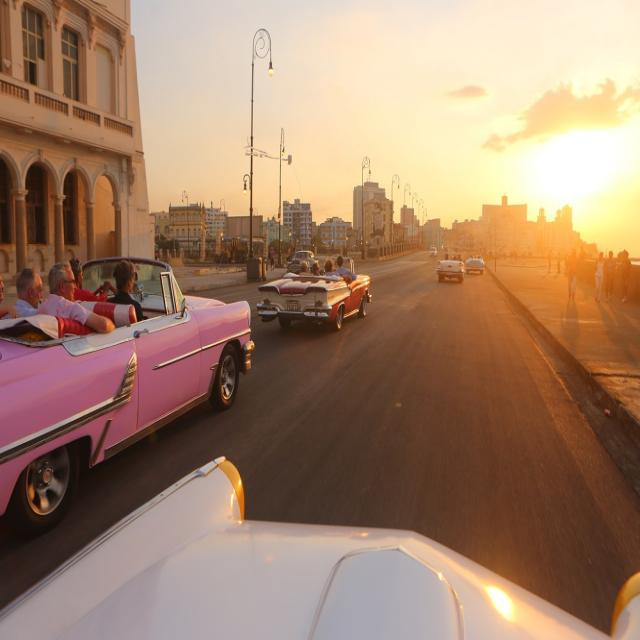body: (36, 260, 116, 336), (428, 241, 562, 277), (104, 257, 145, 324), (0, 266, 44, 319), (68, 255, 112, 302), (0, 256, 18, 328), (565, 246, 579, 302), (602, 248, 616, 303), (618, 250, 632, 304), (593, 250, 605, 304), (334, 254, 357, 282), (322, 258, 342, 278), (577, 245, 592, 268), (286, 246, 310, 260), (269, 245, 276, 272), (298, 260, 309, 276), (312, 263, 321, 276)
